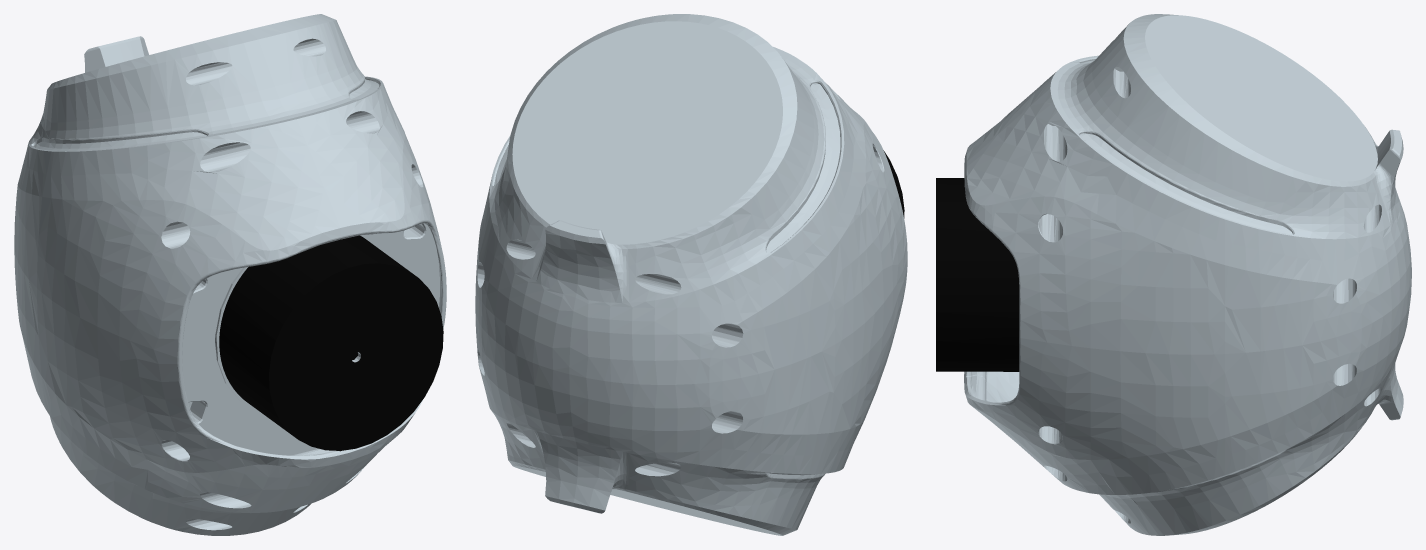
The model's file is pelvis.dae.
3 views of the same model, side by side, from view 1: azimuth 30°, elevation 25°; view 2: azimuth 150°, elevation 25°; view 3: azimuth 270°, elevation 25° (orthographic). The views are drawn at different scales.
Visible parts, largest first — view 1: pelvis; view 2: pelvis; view 3: pelvis.
Boxes of the visible parts, left/top/right/bottom form: pelvis: left=14, top=14, right=446, bottom=535; pelvis: left=475, top=14, right=907, bottom=535; pelvis: left=936, top=14, right=1411, bottom=535.
Bounding box in the file's own units: 0.1557 × 0.2163 × 0.1964.
